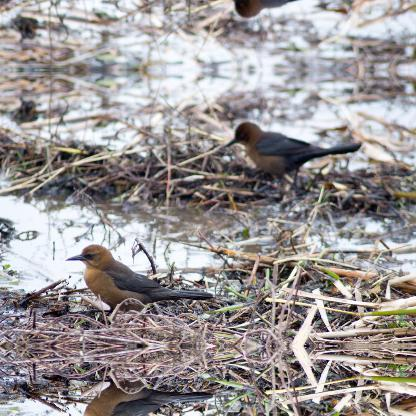Bird: (65, 243, 212, 309), (226, 122, 361, 180), (65, 381, 213, 415), (225, 0, 361, 17)
